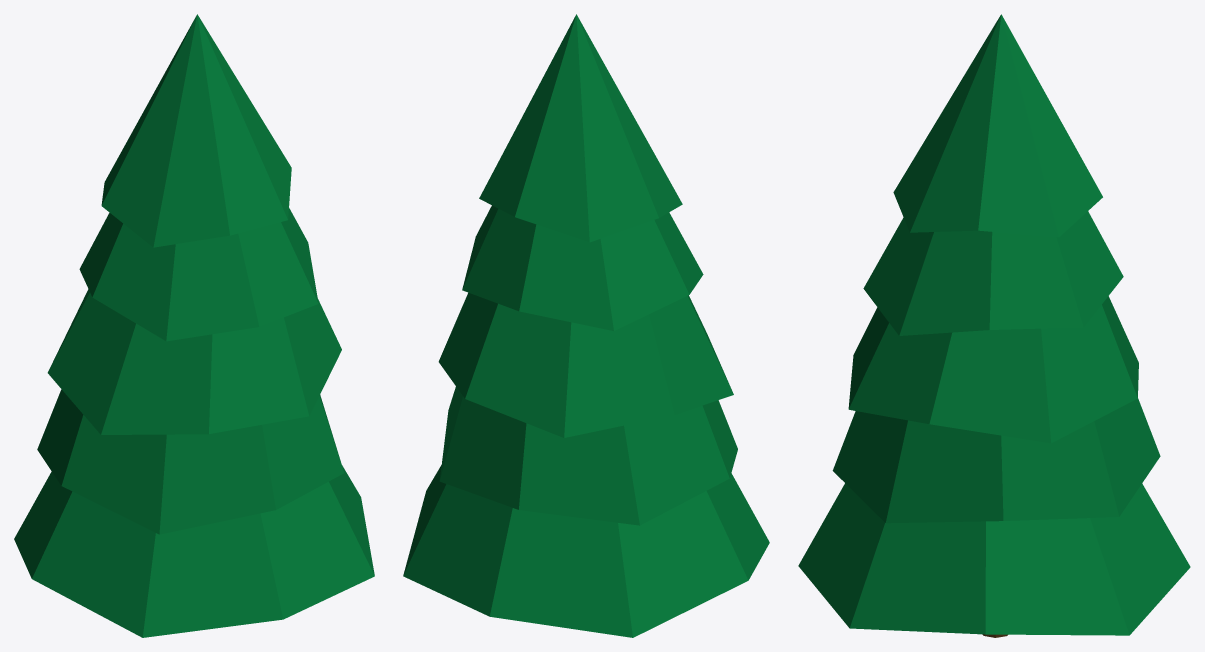
Rendered from pineTree05-unwrap.fbx.
The picture shows the model from 3 angles, left to right: view 1: azimuth 30°, elevation 25°; view 2: azimuth 150°, elevation 25°; view 3: azimuth 270°, elevation 25°; orthographic projection. The views are drawn at different scales.
Parts seen in each view (by area): view 1: pineTree05; view 2: pineTree05; view 3: pineTree05.
Boxes of the visible parts, x1,y1,x2,y2 form: pineTree05: (14,14,374,637); pineTree05: (403,14,769,637); pineTree05: (798,14,1190,637).
Size of the model in its own units: 251 by 438 by 251.
